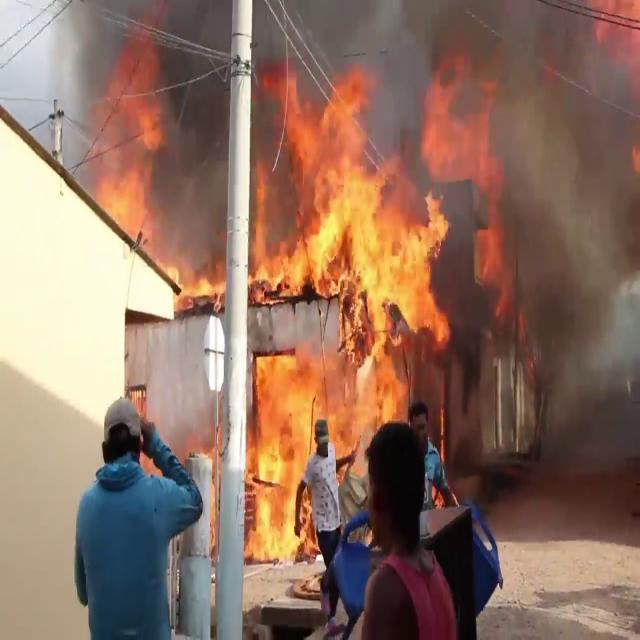Fire: (248, 46, 456, 556), (80, 32, 196, 264), (154, 250, 222, 320)
Smoke: (427, 1, 640, 441), (65, 0, 229, 176)
